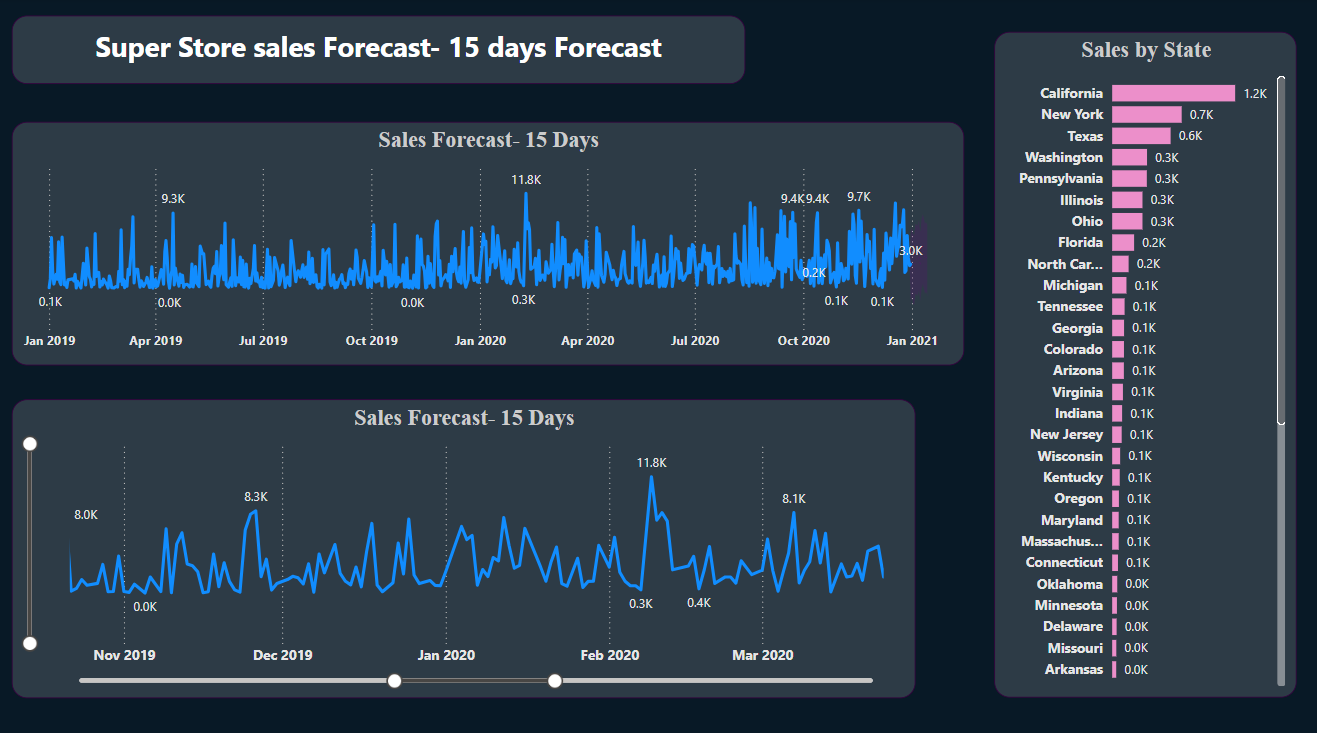

This screenshot's page, from the dashboard's own definition file:
{"tool":"powerbi","page":{"name":"Page 2","canvas":[1280,720],"ordinal":1},"visuals":[{"type":"lineChart","title":"Sales Forecast- 15 Days","fields":{"Y":["Sum(SuperStore_Sales_Dataset.Sales)"],"Category":["SuperStore_Sales_Dataset.Order Date"]},"box":[13.3,119.8,922.4,236],"z":0},{"type":"lineChart","title":"Sales Forecast- 15 Days","fields":{"Y":["Sum(SuperStore_Sales_Dataset.Sales)"],"Category":["SuperStore_Sales_Dataset.Order Date"]},"box":[13.3,388.6,875.2,289.3],"z":1},{"type":"clusteredBarChart","title":" Sales by State","fields":{"Category":["SuperStore_Sales_Dataset.State","SuperStore_Sales_Dataset.Category"],"Y":["CountNonNull(SuperStore_Sales_Dataset.State)"]},"box":[964.8,32.7,292.9,645.2],"z":2},{"type":"textbox","box":[13.3,16.9,710.6,66.6],"z":3}]}

Visuals, with their boxes in screenshot pixels (x1, y1, x2, y2), scaled from the page's 1280x720 canvas onto the 1317x733 screenshot:
"Sales Forecast- 15 Days" lineChart: crop(14, 122, 963, 362)
"Sales Forecast- 15 Days" lineChart: crop(14, 396, 914, 690)
" Sales by State" clusteredBarChart: crop(993, 33, 1294, 690)
textbox: crop(14, 17, 745, 85)
